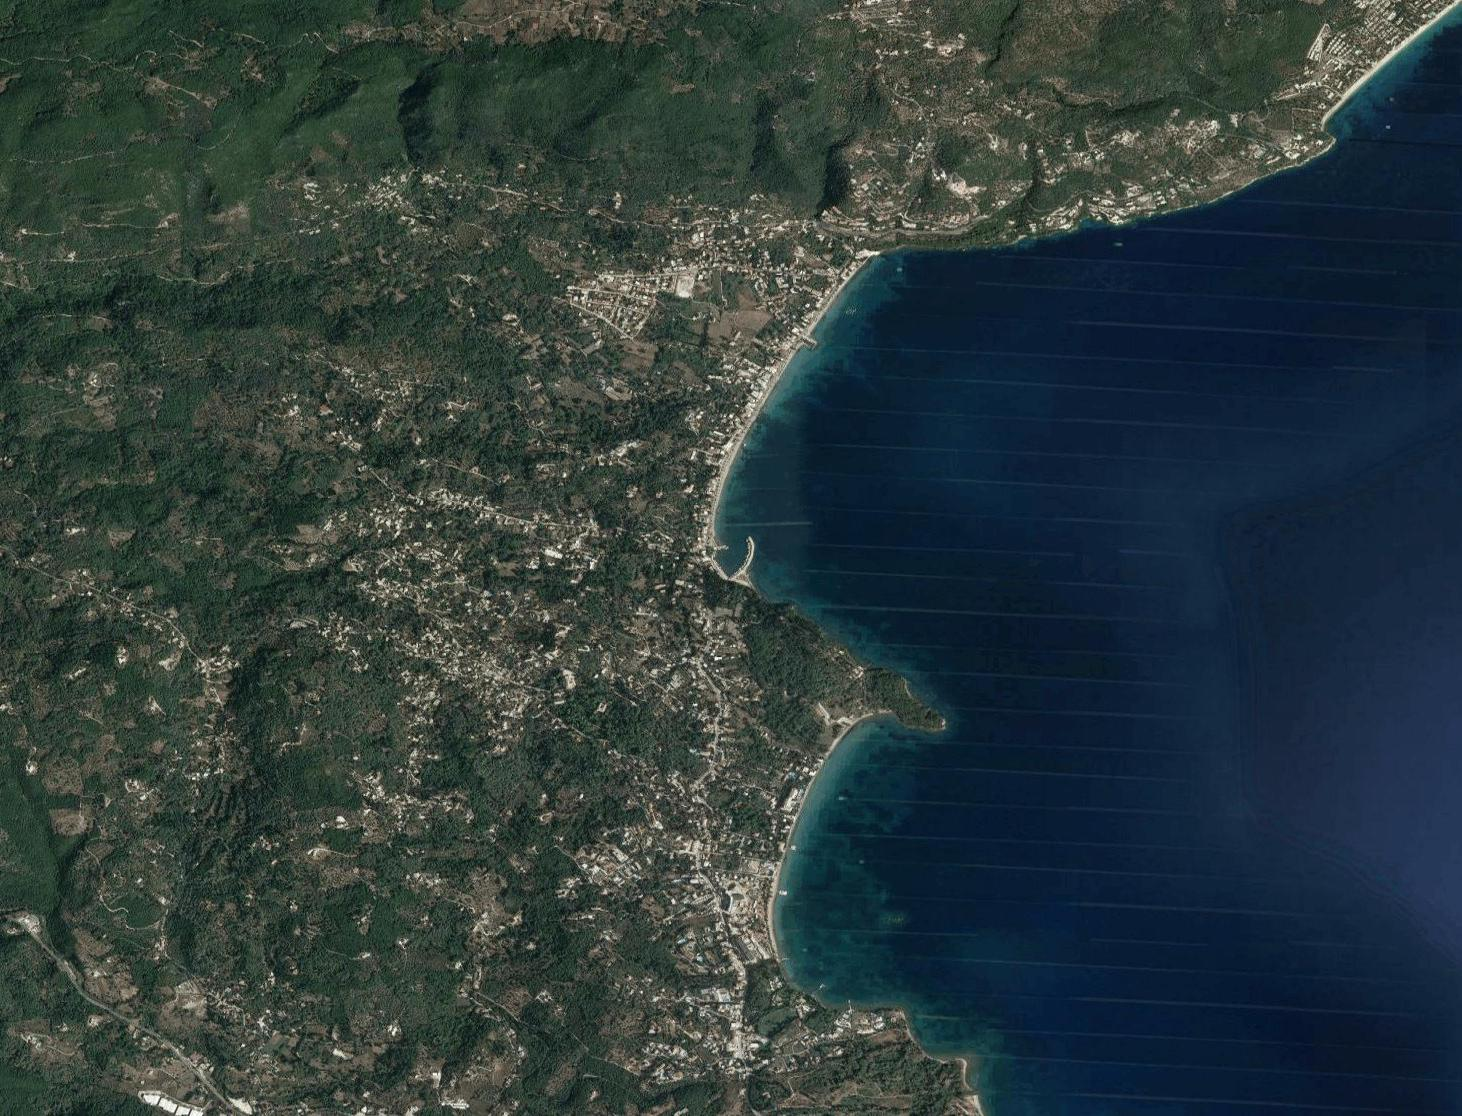harbor: (703, 523, 757, 583)
